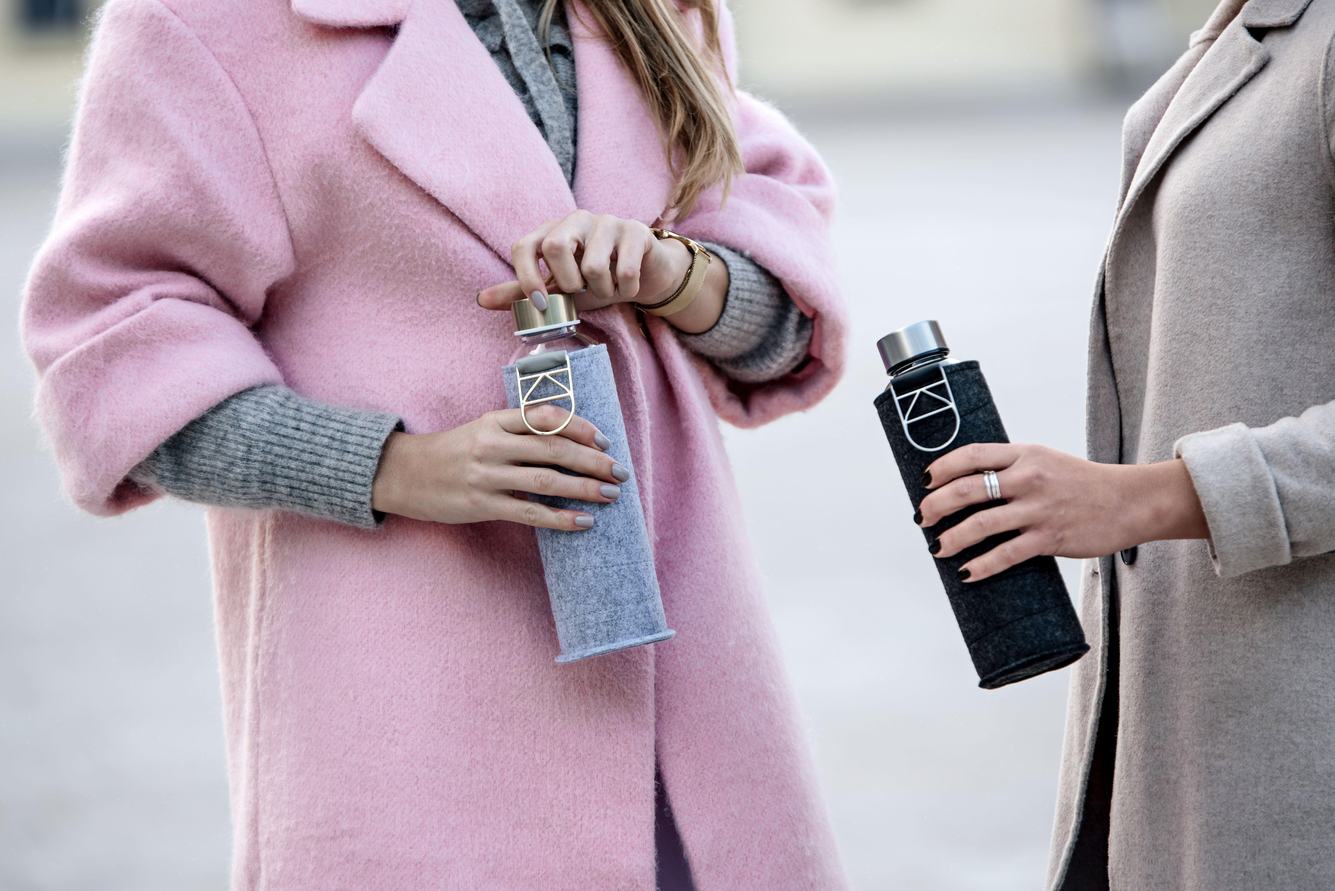gym bottle: (873, 317, 1090, 687), (501, 288, 675, 667)
